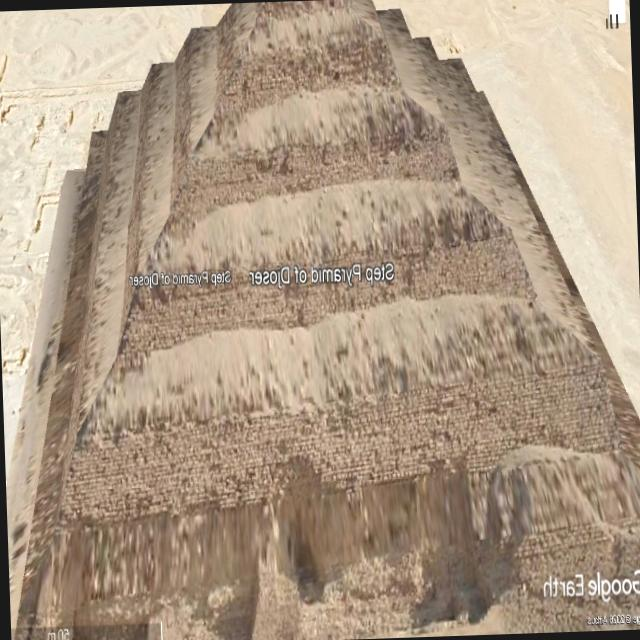objects-ruins-artifacts: (354, 27, 587, 447), (9, 66, 248, 401)
